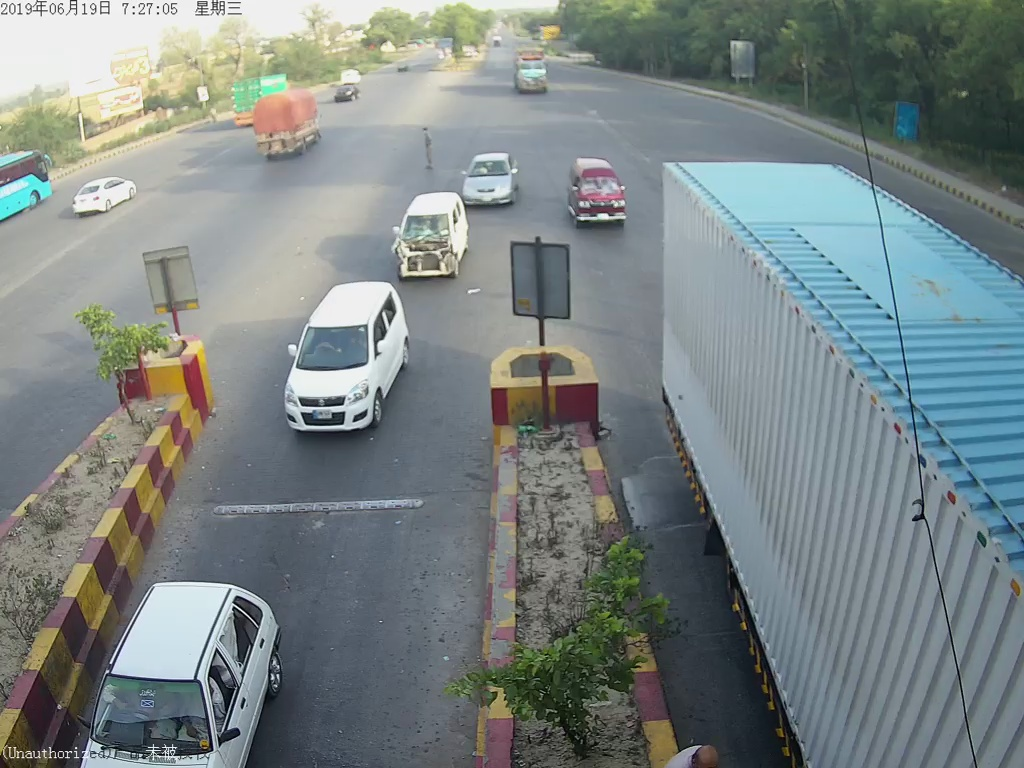Cat-1: (281, 279, 415, 440), (395, 193, 471, 281), (567, 160, 629, 228), (465, 153, 517, 203)
